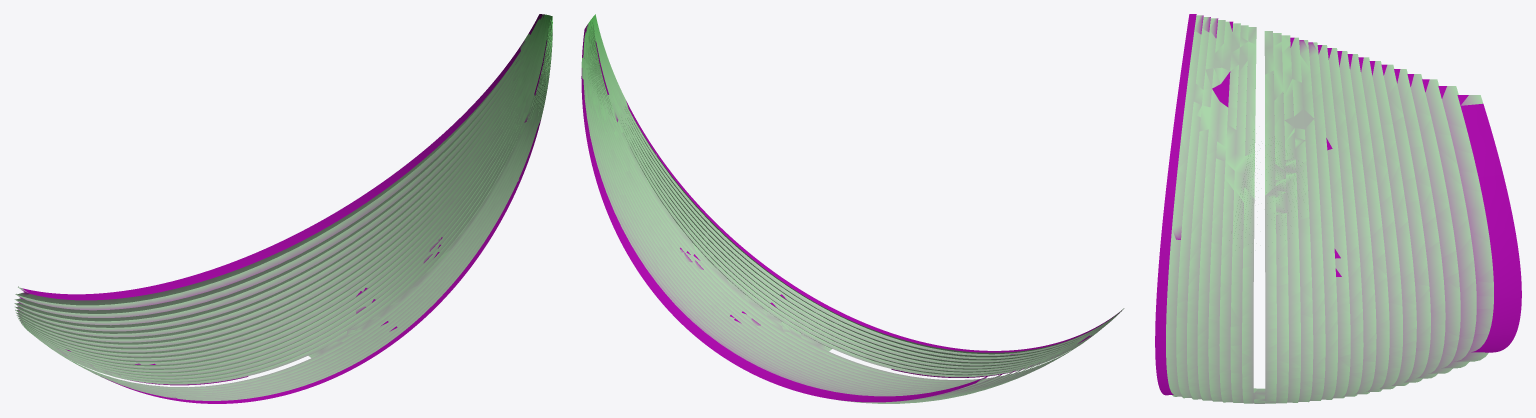
The model's file is lowerTerrace02.glb.
3 renders of one model, left to right at view 1: azimuth 30°, elevation 25°; view 2: azimuth 150°, elevation 25°; view 3: azimuth 270°, elevation 25°, orthographic. The views are drawn at different scales.
Parts seen in each view (by area): view 1: lowerTerrace02; view 2: lowerTerrace02; view 3: lowerTerrace02.
Part boxes in pixels (left/top/right/bottom): lowerTerrace02: left=14, top=14, right=552, bottom=403; lowerTerrace02: left=581, top=14, right=1124, bottom=403; lowerTerrace02: left=1155, top=14, right=1521, bottom=403.
Bounding box in the file's own units: 127 × 67.65 × 48.52.
